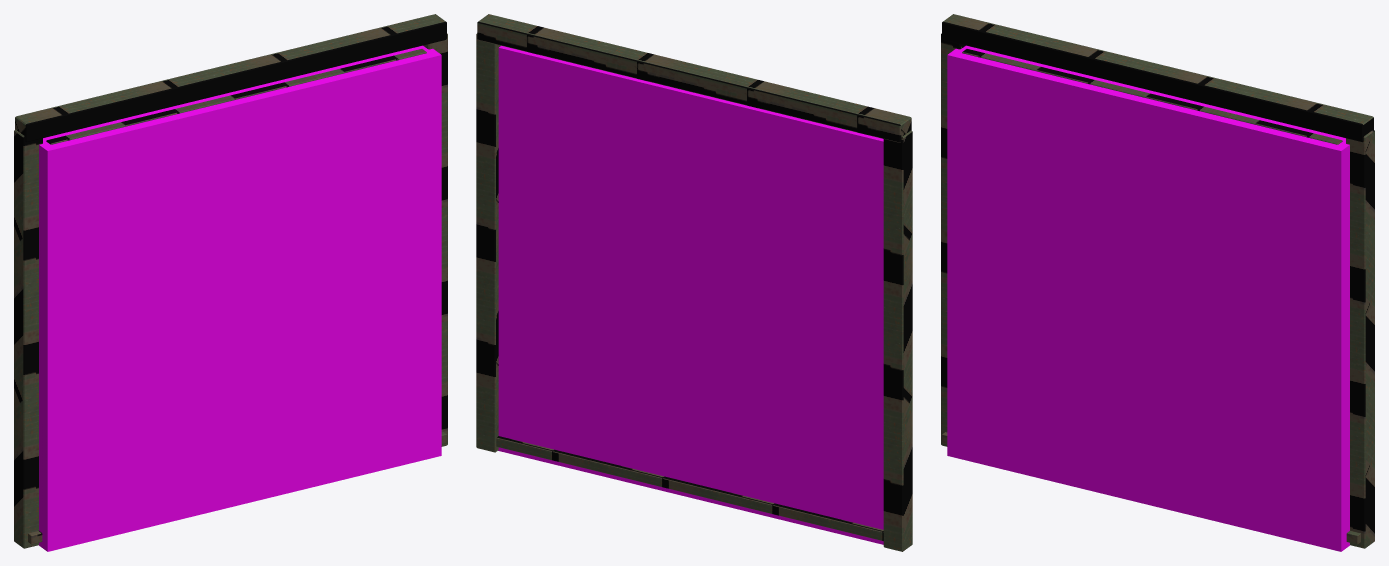
File: prop_door_foundry_side.glb
3 views of the same model, side by side, from view 1: azimuth 30°, elevation 25°; view 2: azimuth 150°, elevation 25°; view 3: azimuth 330°, elevation 25° (orthographic).
Parts seen in each view (by area): view 1: prop_door_foundry_side-col, Frame, Panel; view 2: prop_door_foundry_side-col, Frame; view 3: prop_door_foundry_side-col, Frame, Panel.
Boxes of the visible parts, <box> form: prop_door_foundry_side-col: <box>39,45,441,551</box>; Frame: <box>14,14,447,548</box>; Panel: <box>46,49,426,144</box>; prop_door_foundry_side-col: <box>498,45,883,544</box>; Frame: <box>476,14,912,551</box>; prop_door_foundry_side-col: <box>947,45,1349,551</box>; Frame: <box>941,14,1374,548</box>; Panel: <box>962,49,1342,144</box>.
Bounding box in the file's own units: 3.88 × 3.71 × 0.3075.
Materials: 3 (2 with a texture image).
